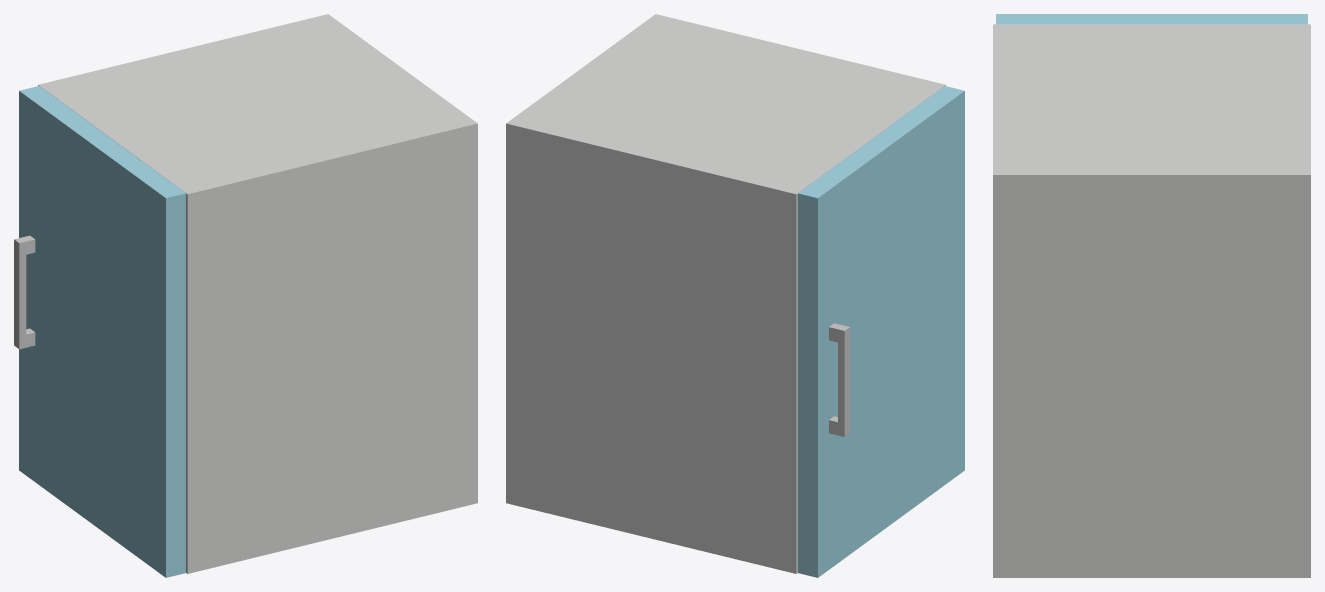
File: Counter_LeftHinge.fbx
3 views of the same model, side by side, from view 1: azimuth 30°, elevation 25°; view 2: azimuth 150°, elevation 25°; view 3: azimuth 270°, elevation 25° (orthographic). The views are drawn at different scales.
Visible parts, largest first — view 1: CounterType4, CounterType4DOOR, CounterType4Handle; view 2: CounterType4, CounterType4DOOR, CounterType4Handle; view 3: CounterType4, CounterType4DOOR.
Part boxes in pixels (left/top/right/bottom): CounterType4: left=38, top=14, right=477, bottom=573; CounterType4DOOR: left=19, top=86, right=185, bottom=577; CounterType4Handle: left=14, top=235, right=35, bottom=349; CounterType4: left=506, top=14, right=945, bottom=573; CounterType4DOOR: left=798, top=86, right=964, bottom=577; CounterType4Handle: left=829, top=323, right=849, bottom=436; CounterType4: left=993, top=24, right=1310, bottom=577; CounterType4DOOR: left=996, top=14, right=1307, bottom=24.
Bounding box in the file's own units: 62.97 × 70 × 50.
